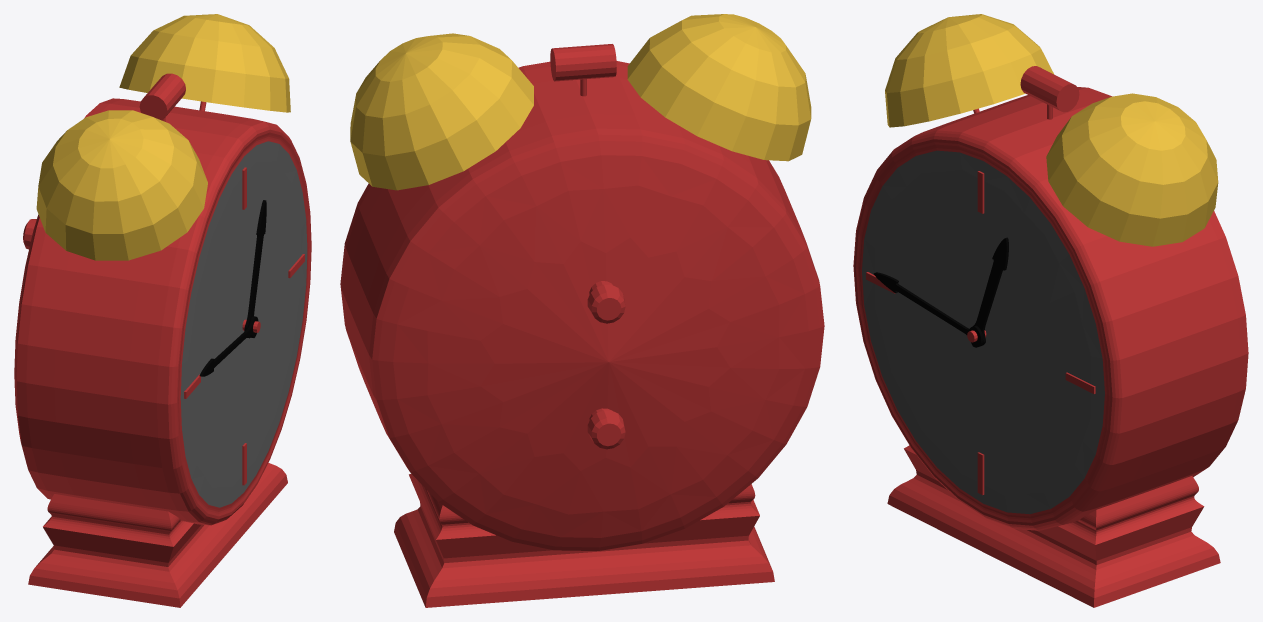
3 renders of one model, left to right at view 1: azimuth 30°, elevation 25°; view 2: azimuth 150°, elevation 25°; view 3: azimuth 270°, elevation 25°, orthographic. The views are drawn at different scales.
Visible parts, largest first — view 1: Object_1, Object_0, Object_3, Object_2; view 2: Object_1, Object_0; view 3: Object_1, Object_3, Object_0, Object_2.
Part boxes in pixels (x1,y1,x2,y2): Object_1: (14, 73, 311, 607); Object_0: (36, 14, 290, 260); Object_3: (180, 141, 307, 507); Object_2: (199, 200, 266, 376); Object_1: (340, 44, 824, 607); Object_0: (350, 14, 811, 190); Object_1: (853, 66, 1248, 607); Object_3: (862, 150, 1104, 514); Object_0: (885, 14, 1218, 246); Object_2: (873, 237, 1008, 347).
Size of the model in its own units: 190 by 233 by 176.
